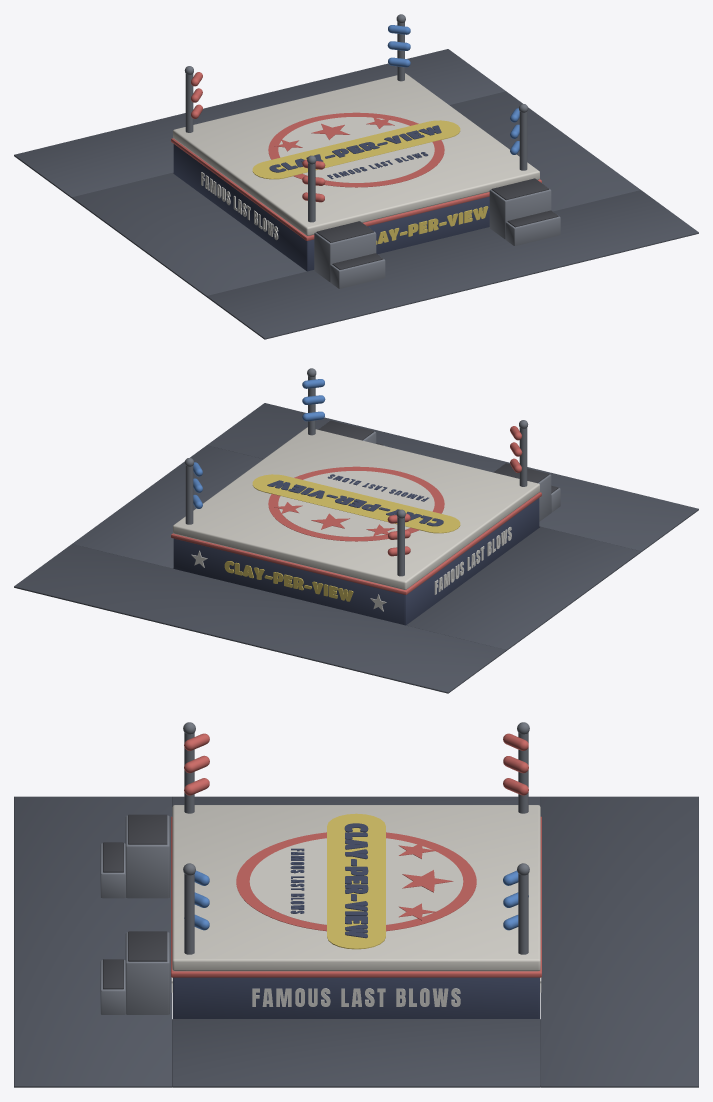
The model's file is SM_Ring.glb.
3 renders of one model, top to bottom at view 1: azimuth 30°, elevation 25°; view 2: azimuth 150°, elevation 25°; view 3: azimuth 270°, elevation 25°, orthographic. The views are drawn at different scales.
Parts seen in each view (by area): view 1: SM_Ring; view 2: SM_Ring; view 3: SM_Ring.
Boxes of the visible parts, x1,y1,x2,y2 form: SM_Ring: [14, 14, 698, 339]; SM_Ring: [14, 368, 698, 693]; SM_Ring: [14, 722, 698, 1087].
Size of the model in its own units: 11.16 by 2.69 by 11.16.
